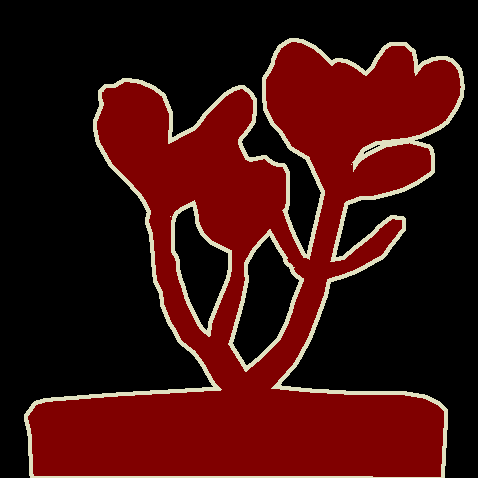pottedplant: (28, 43, 466, 478)
